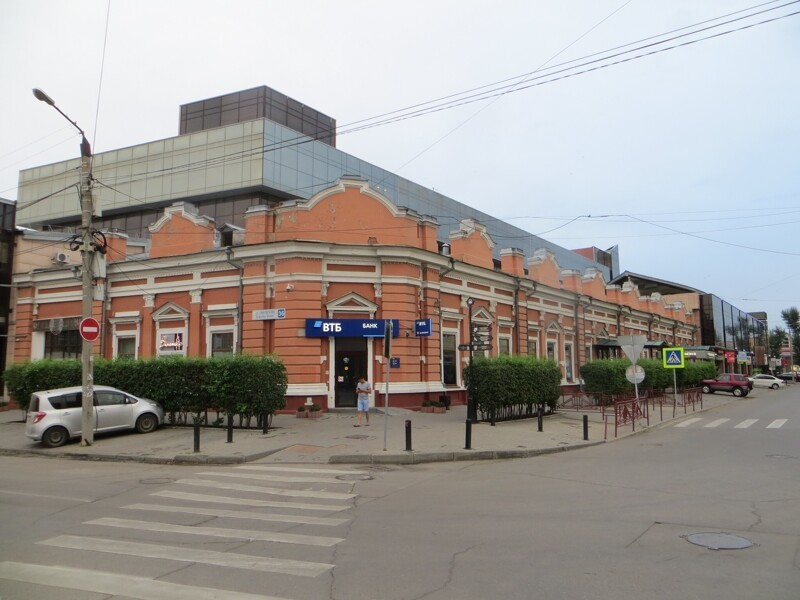sign: (78, 316, 102, 342), (662, 346, 685, 369)
